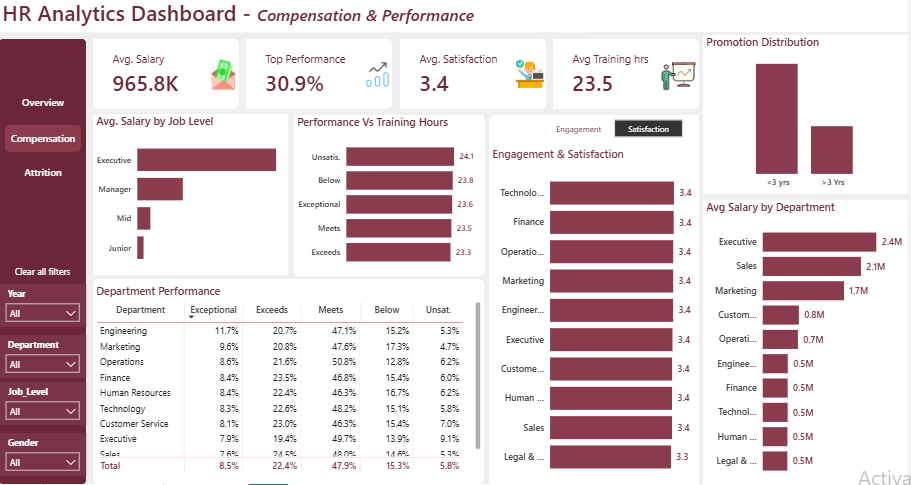

The dashboard page shown, as its layout file describes it:
{"tool":"powerbi","page":{"name":"Compensation","canvas":[1354,730],"ordinal":1},"visuals":[{"type":"shape","box":[0,67,129.6,663],"z":0},{"type":"shape","box":[0,0,1354.2,56.6],"z":1000},{"type":"textbox","box":[0,0,879,56.6],"z":2000},{"type":"slicer","fields":{"Values":["DimDate.Year"]},"box":[0,432,129.6,64.1],"z":3000},{"type":"slicer","fields":{"Values":["DimJob.Job_Level"]},"box":[0,578,129.6,64.1],"z":4000},{"type":"slicer","fields":{"Values":["DimEmloyees.Gender"]},"box":[0,654,129.6,64.1],"z":5000},{"type":"slicer","fields":{"Values":["DimJob.Department"]},"box":[0,508,129.6,64.1],"z":6000},{"type":"actionButton","box":[16.4,394.8,96.8,37.2],"z":7000},{"type":"shape","box":[439.5,180.3,284.6,239.9],"z":8000},{"type":"group","id":"g1","title":"Group 1","box":[140,61,1214.2,668.9],"z":9000},{"type":"shape","box":[140,67,217.5,104.3],"z":9000,"group":"g1"},{"type":"cardVisual","fields":{"Data":["Measures Table.Avg Salary (Active)"]},"box":[140,67,157.9,104.3],"z":10000},{"type":"shape","box":[368,67,217.5,104.3],"z":10000,"group":"g1"},{"type":"cardVisual","fields":{"Data":["Measures Table.Top Performace (Active)%"]},"box":[368,67,177.3,104.3],"z":11000},{"type":"shape","box":[597.4,67,217.5,104.3],"z":11000,"group":"g1"},{"type":"cardVisual","fields":{"Data":["Measures Table.Avg Job satis. score"]},"box":[597.4,67,183.2,104.3],"z":12000},{"type":"shape","box":[825.3,67,217.5,104.3],"z":12000,"group":"g1"},{"type":"cardVisual","fields":{"Data":["Measures Table.Avg Training hours"]},"box":[825.3,67,175.8,104.3],"z":13000},{"type":"shape","box":[140,424.5,582.5,305.4],"z":13000,"group":"g1"},{"type":"image","box":[311.4,74.5,46.2,90.9],"z":14000},{"type":"shape","box":[1048.8,306.8,305.4,423.1],"z":14000,"group":"g1"},{"type":"image","box":[545.3,68.5,37.2,102.8],"z":15000},{"type":"image","box":[767.2,67,47.7,104.3],"z":16000},{"type":"shape","box":[729.9,180.2,312.9,549.7],"z":16000,"group":"g1"},{"type":"shape","box":[1048.8,61,305.4,236.9],"z":17000,"group":"g1"},{"type":"image","box":[981.8,67,61.1,108.8],"z":17000},{"type":"columnChart","title":"Years Since Promotion","fields":{"Category":["FactEmployee.Last Promotion Band"],"Y":["Measures Table.Active Employee"]},"box":[1048.8,61.1,305.4,236.9],"z":18000},{"type":"clusteredBarChart","title":"Avg Salary by Department","fields":{"Category":["DimJob.Department"],"Y":["Measures Table.Avg Salary (Active)"]},"box":[1048.8,306.9,305.4,423.1],"z":19000},{"type":"clusteredBarChart","title":"Engagement & Satisfaction","fields":{"Y":["Measures Table.Avg Jobsatis.score(Active)"],"Category":["DimJob.Department"]},"box":[730,227.9,312.9,502.1],"z":20000},{"type":"slicer","fields":{"Values":["Engagement metric.Engagement metric"]},"box":[786.6,180.3,256.2,34.3],"z":21000},{"type":"tableEx","title":"Department Performance","fields":{"Values":["DimJob.Department","Measures Table.Exceptional(Active) %","Measures Table.Exceeds(Active) %","Measures Table.Meets(Active) %","Measures Table.Below(Active) %","Measures Table.Unsat.(Active) %"]},"box":[140,432,582.5,286],"z":22000},{"type":"shape","box":[140,178.8,290.5,239.9],"z":23000},{"type":"barChart","title":"Avg. Salary by Job Level","fields":{"Category":["DimJob.Job_Level"],"Y":["Measures Table.Avg Salary (Active)"]},"box":[140,178.8,290.5,239.9],"z":24000},{"type":"clusteredBarChart","title":"Performance Vs Training Hours","fields":{"Category":["DimPerformance.Performace_Rating_1"],"Y":["Measures Table.Avg Training hours"]},"box":[439.5,180.3,283.1,238.4],"z":25000},{"type":"actionButton","box":[8.9,141.5,113.2,40.2],"z":26000},{"type":"actionButton","box":[8.9,195.2,113.2,40.2],"z":27000},{"type":"actionButton","box":[8.9,245.8,113.2,40.2],"z":28000}]}

Visuals, with their boxes in screenshot pixels (x1, y1, x2, y2), scaled from the page's 1354x730 canvas onto the 911x485 screenshot:
shape: l=0, t=45, r=87, b=484
shape: l=0, t=0, r=910, b=38
textbox: l=0, t=0, r=591, b=38
slicer - DimDate.Year: l=0, t=287, r=87, b=330
slicer - DimJob.Job_Level: l=0, t=384, r=87, b=427
slicer - DimEmloyees.Gender: l=0, t=435, r=87, b=477
slicer - DimJob.Department: l=0, t=338, r=87, b=380
actionButton: l=11, t=262, r=76, b=287
shape: l=296, t=120, r=487, b=279
"Group 1" group: l=94, t=41, r=910, b=484
shape: l=94, t=45, r=241, b=114
cardVisual - Measures Table.Avg Salary (Active): l=94, t=45, r=200, b=114
shape: l=248, t=45, r=394, b=114
cardVisual - Measures Table.Top Performace (Active)%: l=248, t=45, r=367, b=114
shape: l=402, t=45, r=548, b=114
cardVisual - Measures Table.Avg Job satis. score: l=402, t=45, r=525, b=114
shape: l=555, t=45, r=702, b=114
cardVisual - Measures Table.Avg Training hours: l=555, t=45, r=674, b=114
shape: l=94, t=282, r=486, b=484
image: l=210, t=49, r=241, b=110
shape: l=706, t=204, r=910, b=484
image: l=367, t=46, r=392, b=114
image: l=516, t=45, r=548, b=114
shape: l=491, t=120, r=702, b=484
shape: l=706, t=41, r=910, b=198
image: l=661, t=45, r=702, b=117
"Years Since Promotion" columnChart: l=706, t=41, r=910, b=198
"Avg Salary by Department" clusteredBarChart: l=706, t=204, r=910, b=484
"Engagement & Satisfaction" clusteredBarChart: l=491, t=151, r=702, b=484
slicer - Engagement metric.Engagement metric: l=529, t=120, r=702, b=143
"Department Performance" tableEx: l=94, t=287, r=486, b=477
shape: l=94, t=119, r=290, b=278
"Avg. Salary by Job Level" barChart: l=94, t=119, r=290, b=278
"Performance Vs Training Hours" clusteredBarChart: l=296, t=120, r=486, b=278
actionButton: l=6, t=94, r=82, b=121
actionButton: l=6, t=130, r=82, b=156
actionButton: l=6, t=163, r=82, b=190
